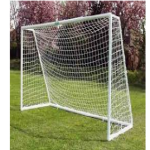goals: (20, 11, 135, 141)
